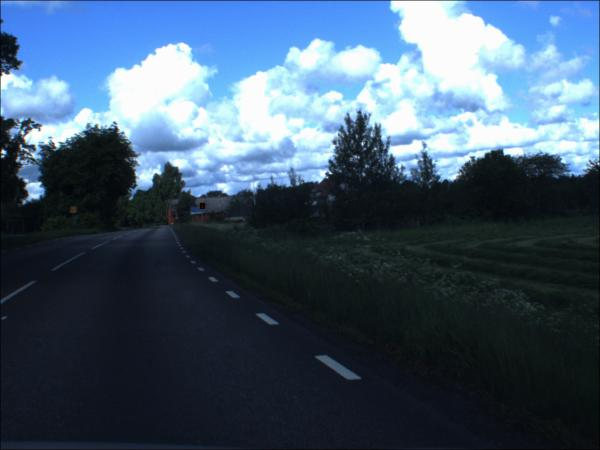50_SIGN: (71, 208, 79, 216), (201, 204, 207, 211)
